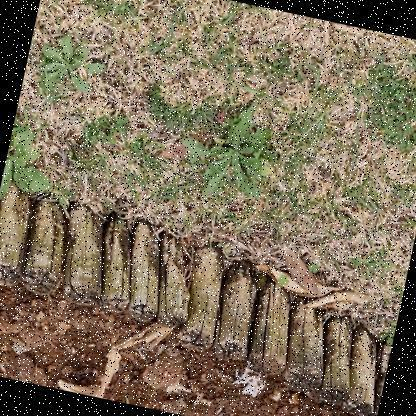Weeds: (173, 94, 284, 207), (0, 113, 65, 211), (32, 30, 111, 101)
